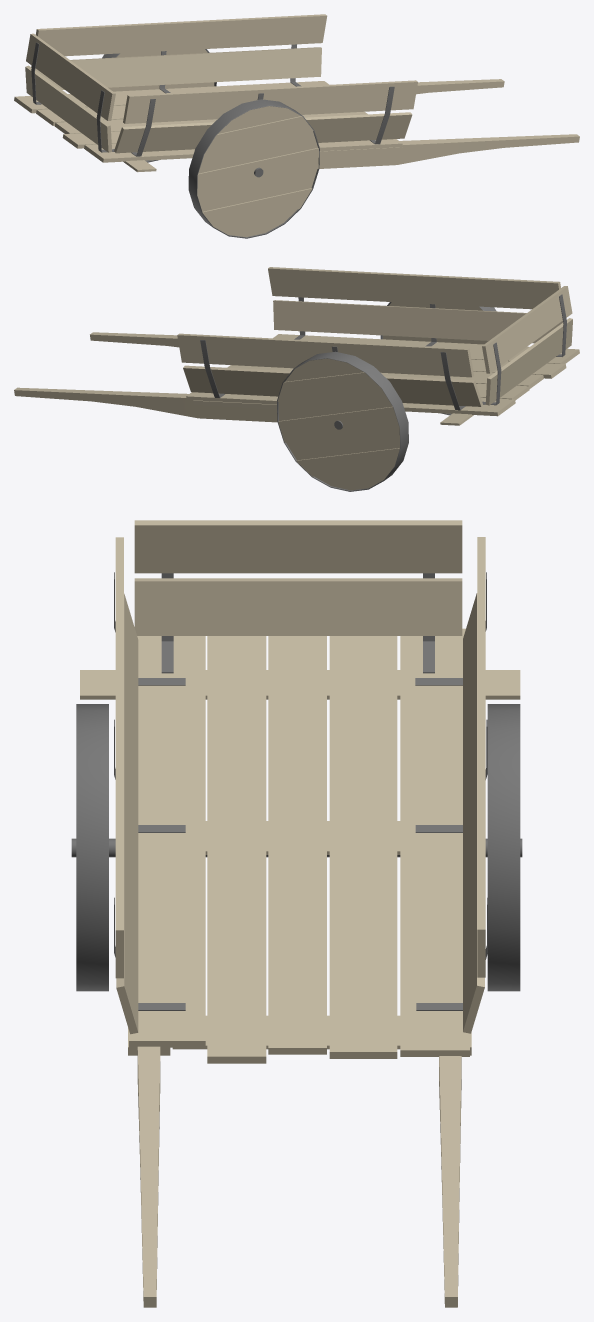
File: HandCart.fbx
3 views of the same model, one above another, from view 1: azimuth 30°, elevation 25°; view 2: azimuth 150°, elevation 25°; view 3: azimuth 270°, elevation 25° (orthographic). The views are drawn at different scales.
Parts seen in each view (by area): view 1: pCube40; view 2: pCube40; view 3: pCube40.
Part boxes in pixels (box(x1,y1,x2,y2)): pCube40: box(14, 14, 579, 238); pCube40: box(14, 267, 579, 491); pCube40: box(71, 520, 522, 1307).
Size of the model in its own units: 19.13 by 6.19 by 7.67.
